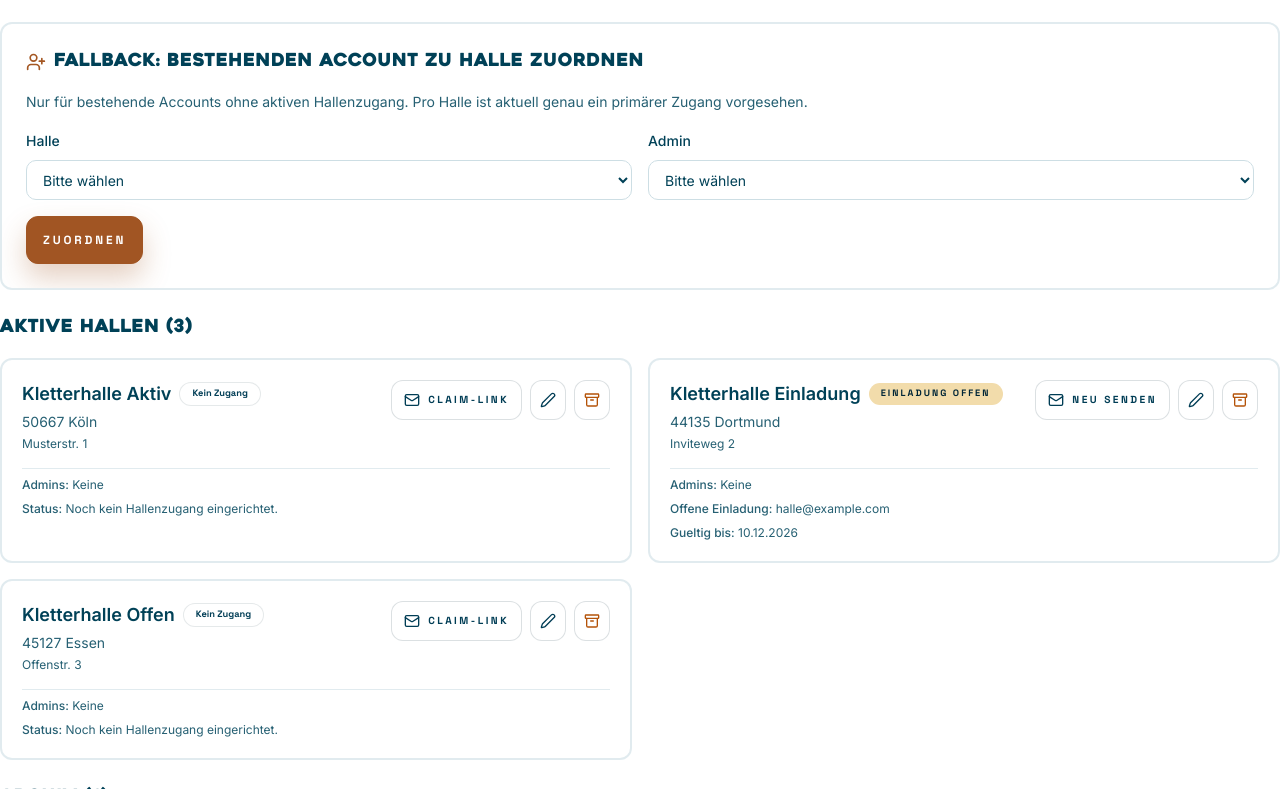
Scenario: LeagueGyms › archives active gyms through the admin flow
This screenshot has width=1280, height=789.
Later steps or results of the test are not shown.
(page scrolled)
Expected: the heading "Aktive Hallen (3)" is shown, [0,318,192,337]
Click the button named "halle kletterhalle aktiv archivieren".
click(592, 400)  # box [574,380,610,420]
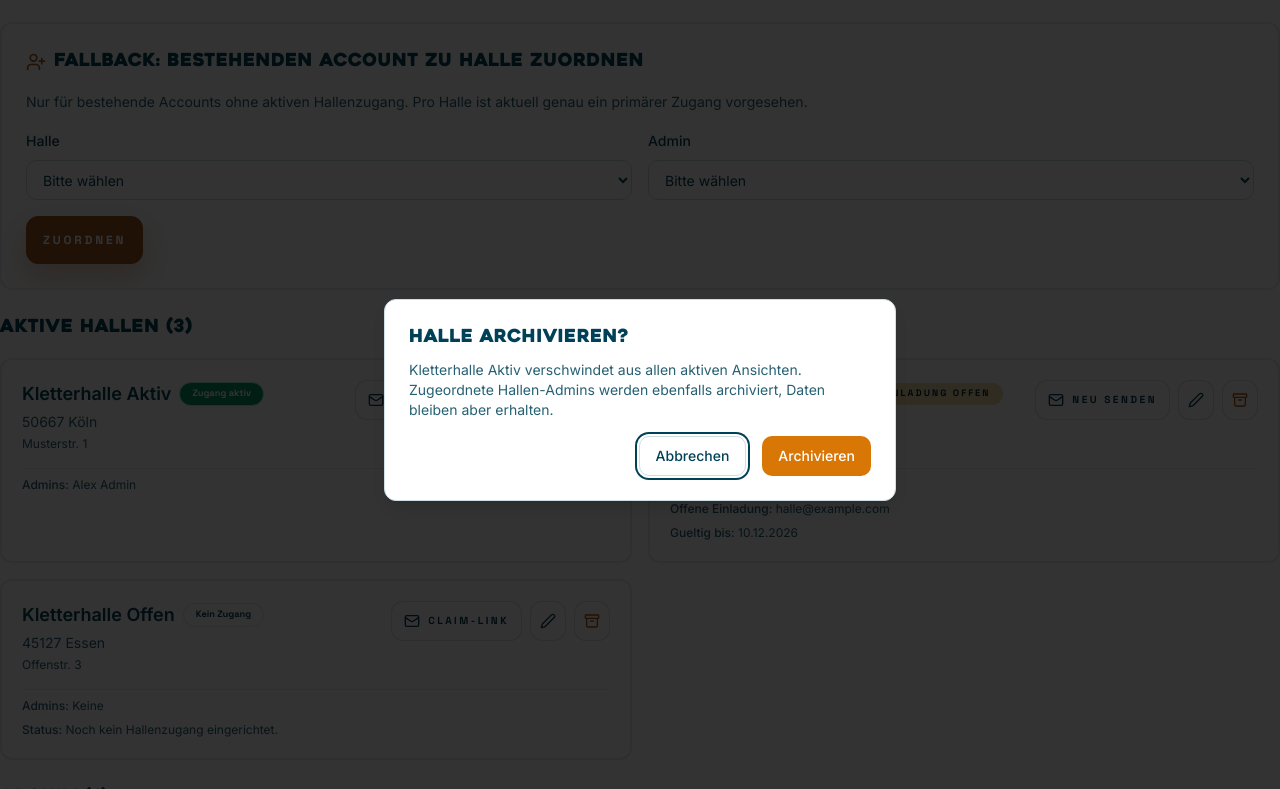
Expected: the heading "Halle archivieren?" is shown, [409,328,629,347]
